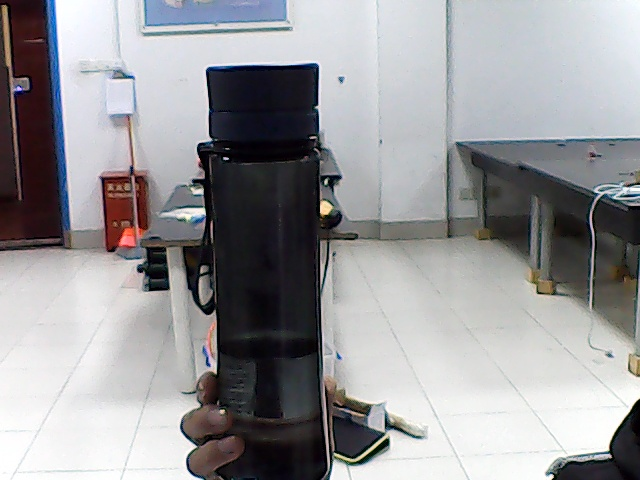cup: (231, 93, 307, 420)
